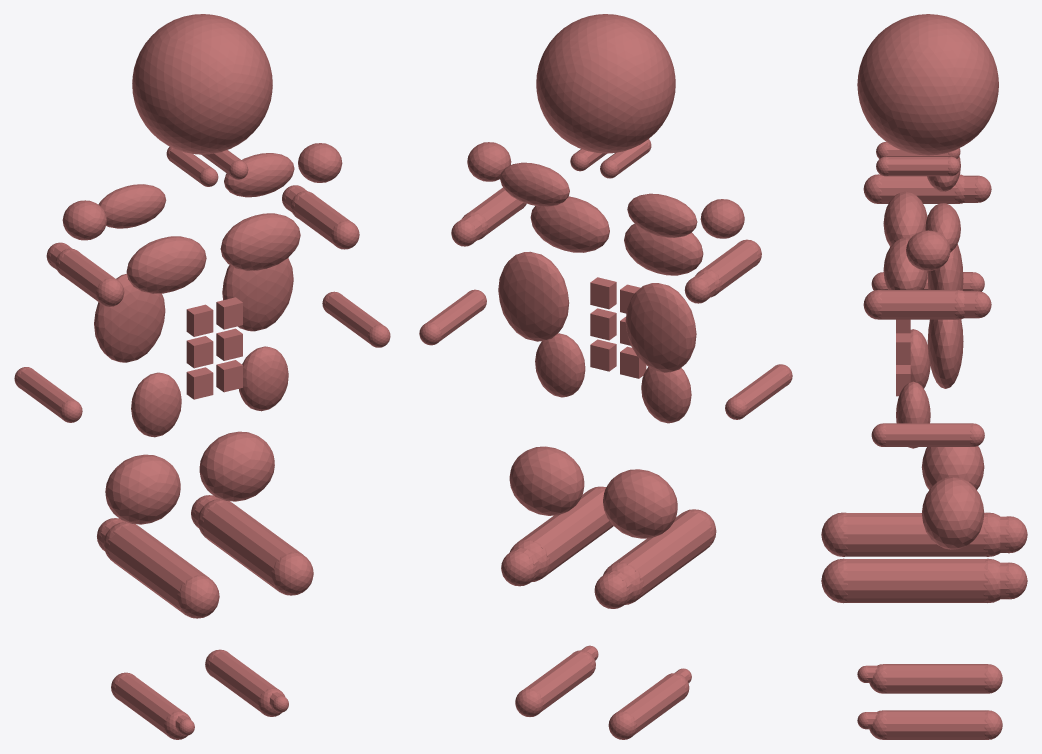
Rendered from muscles.glb.
The picture shows the model from 3 angles, left to right: view 1: azimuth 30°, elevation 25°; view 2: azimuth 150°, elevation 25°; view 3: azimuth 270°, elevation 25°; orthographic projection.
Parts seen in each view (by area): view 1: world; view 2: world; view 3: world.
Part boxes in pixels (x1,y1,x2,y2): world: (14, 14, 390, 739); world: (419, 14, 792, 739); world: (821, 14, 1027, 739).
Bounding box in the file's own units: 1.54 × 3.09 × 0.83.
